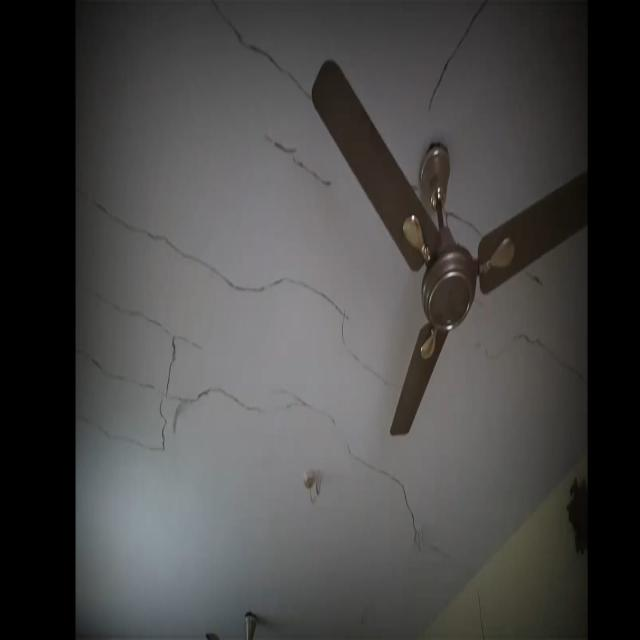Wall_Cracks: (77, 6, 568, 577)
